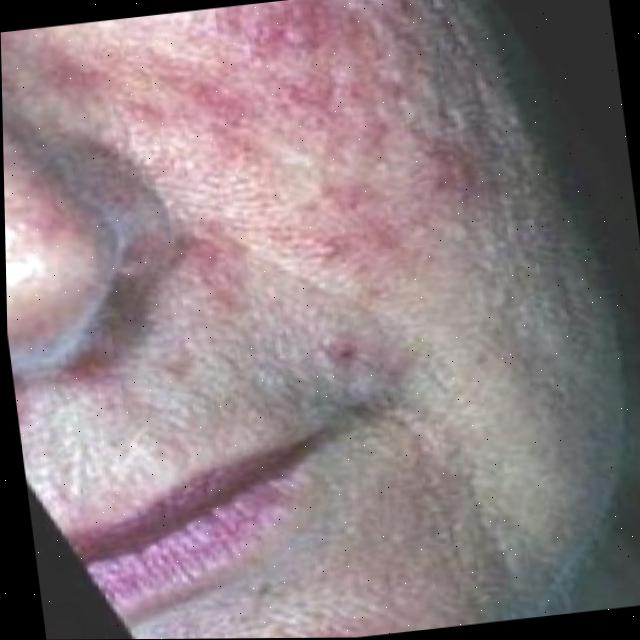Rosacea: (177, 0, 471, 289)
